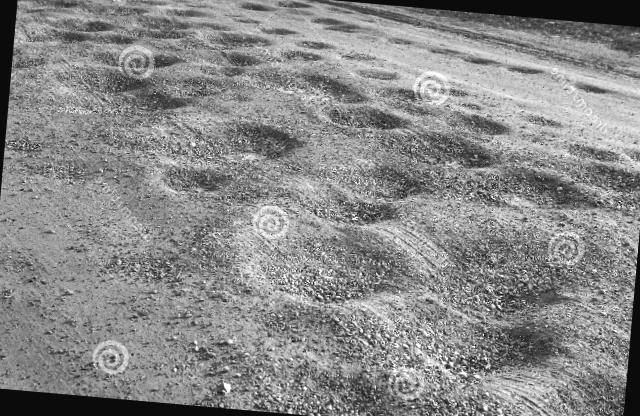Pothole: (260, 0, 622, 103), (413, 241, 590, 404), (212, 220, 410, 328), (140, 97, 314, 219), (302, 154, 436, 244), (444, 164, 600, 230), (321, 90, 416, 154), (82, 26, 182, 80), (437, 97, 513, 145), (54, 14, 139, 52), (283, 66, 362, 106), (112, 26, 176, 56), (219, 26, 264, 49)
